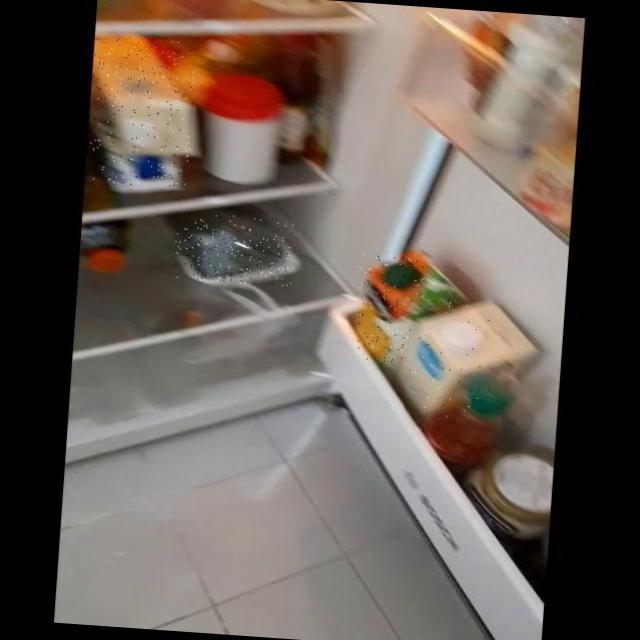Brocoli: (173, 212, 297, 287)
juice: (353, 254, 425, 366)
milk: (86, 34, 198, 189), (403, 296, 498, 432)
